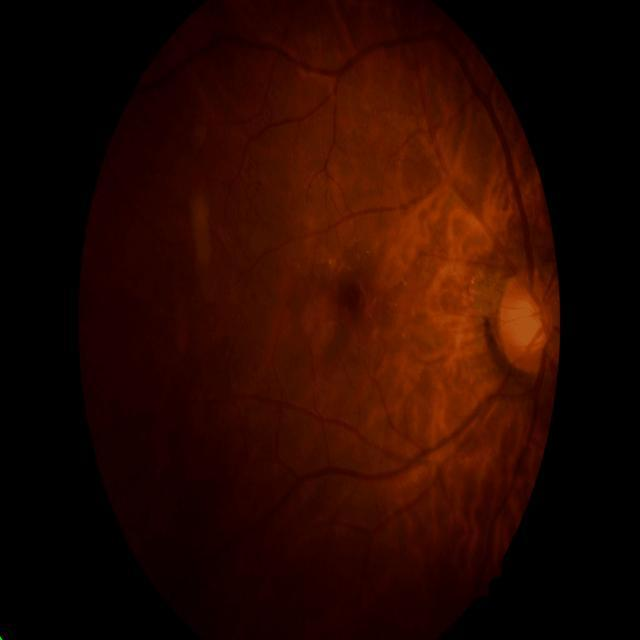cup: (514, 282, 550, 356)
disk: (497, 267, 561, 375)
